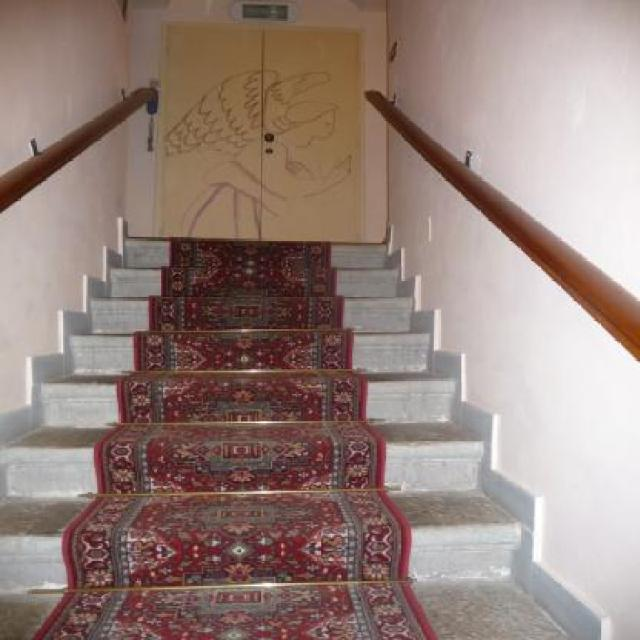stair: (0, 235, 578, 639)
